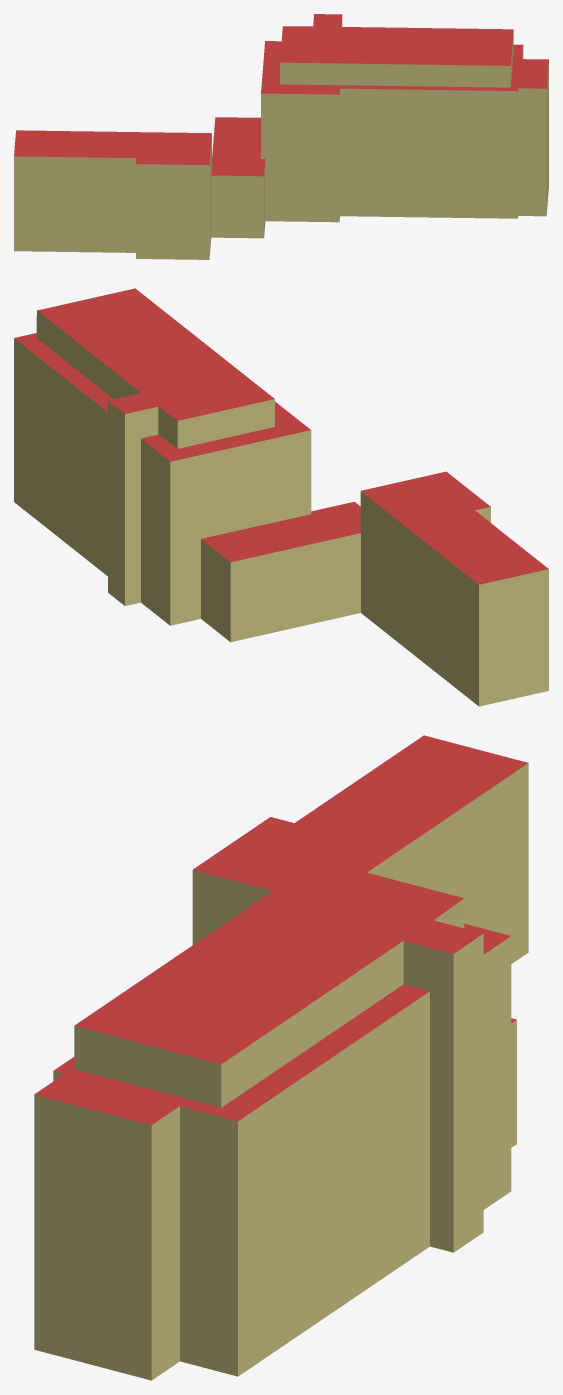
The picture shows the model from 3 angles, top to bottom: view 1: azimuth 30°, elevation 25°; view 2: azimuth 150°, elevation 25°; view 3: azimuth 270°, elevation 25°; orthographic projection. The views are drawn at different scales.
Visible parts, largest first — view 1: group_7, group_13, group_9, group_12, group_10, group_6, group_4, group_3; view 2: group_7, group_13, group_9, group_4, group_10, group_12, group_3, group_6; view 3: group_7, group_9, group_10, group_12, group_13, group_6.
Part boxes in pixels (x1,y1,x2,y2): group_7: (261, 47, 548, 222); group_13: (14, 136, 211, 259); group_9: (280, 14, 513, 65); group_12: (14, 130, 211, 165); group_10: (280, 18, 513, 87); group_6: (261, 41, 548, 94); group_4: (211, 163, 265, 238); group_3: (211, 117, 265, 176); group_7: (14, 317, 311, 625); group_13: (360, 491, 548, 706); group_9: (37, 288, 274, 420); group_4: (201, 533, 360, 642); group_10: (37, 310, 274, 605); group_12: (361, 471, 548, 584); group_3: (201, 501, 360, 562); group_6: (14, 333, 310, 461); group_7: (34, 936, 511, 1380); group_9: (75, 860, 483, 1064); group_10: (74, 898, 483, 1252); group_12: (193, 735, 527, 890); group_13: (192, 763, 528, 963); group_6: (34, 923, 510, 1125).
Bounding box in the file's own units: 60.08 × 27.55 × 18.37.
